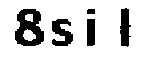8: (14, 4, 44, 50)
I: (117, 5, 135, 55)
i: (83, 5, 99, 50)
s: (49, 15, 75, 49)
